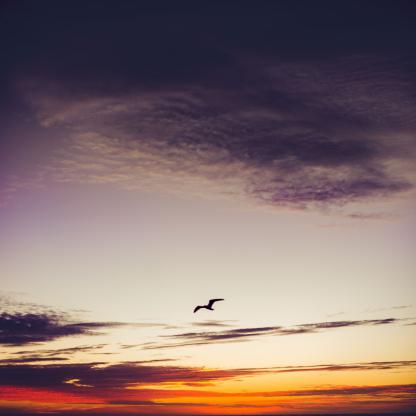bird: (194, 299, 224, 313)
